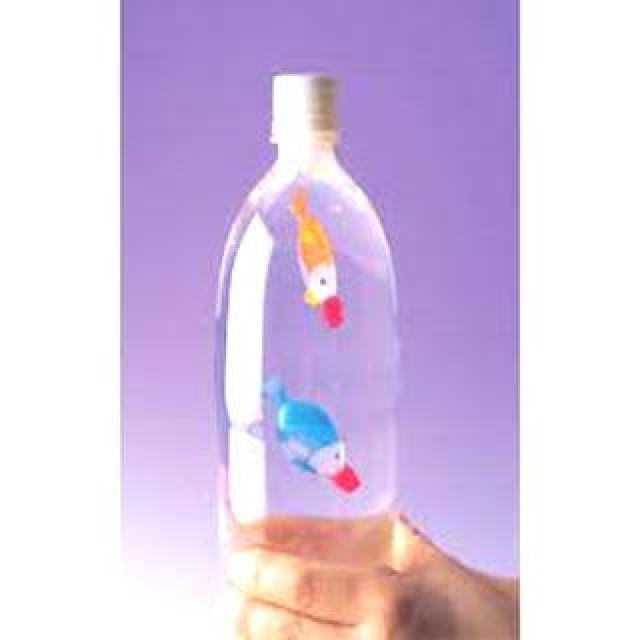Pet_Bottle: (204, 70, 396, 516)
